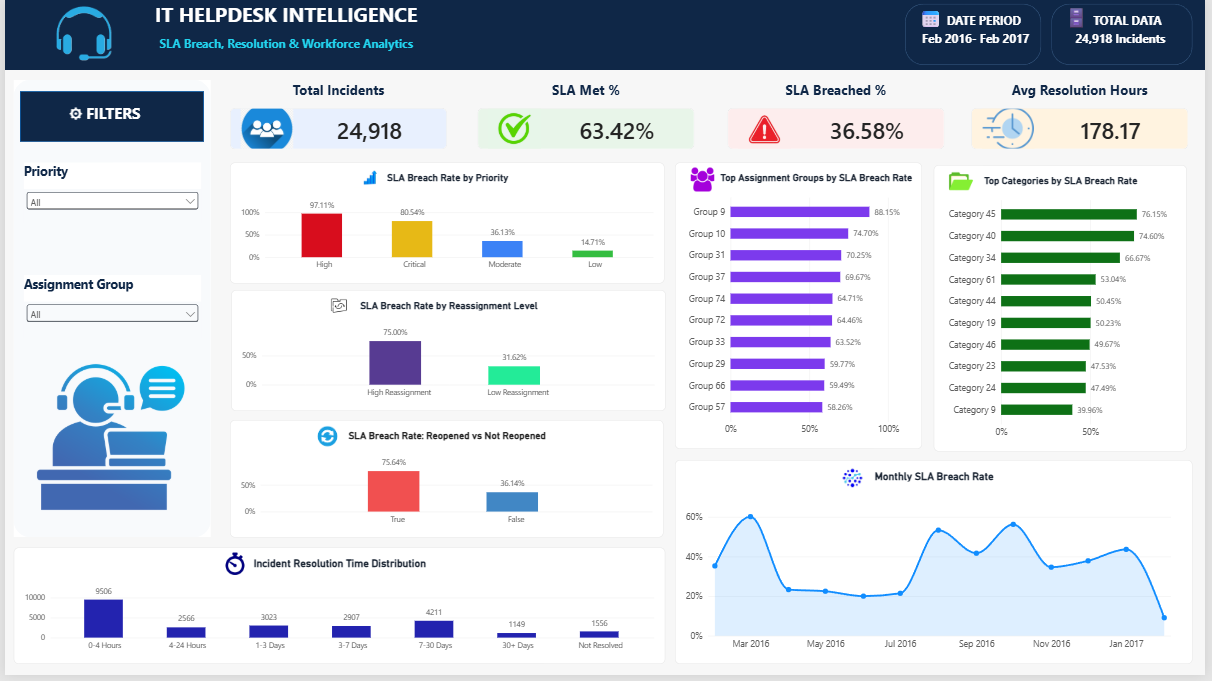

What the dashboard file says about the page in this screenshot:
{"tool":"powerbi","page":{"name":"Page 1","canvas":[1920,1080],"ordinal":0},"visuals":[{"type":"cardVisual","title":"Total Incidents","fields":{"Data":["public incidents.Total Incidents Display"]},"box":[360.2,127.8,347.2,111.1],"z":0},{"type":"cardVisual","title":"SLA Met %","fields":{"Data":["public incidents.SLA Met %"]},"box":[755.6,128.7,347,111],"z":1000},{"type":"cardVisual","title":"SLA Breached %","fields":{"Data":["public incidents.SLA Breached %"]},"box":[1156.5,128.7,347,111],"z":2000},{"type":"cardVisual","title":"Avg Resolution Hours","fields":{"Data":["public incidents.Avg Resolution Hours"]},"box":[1545.4,128.7,347,111],"z":3000},{"type":"clusteredColumnChart","title":"SLA Breach Rate by Priority","fields":{"Category":["public incidents.priority_label"],"Y":["public incidents.SLA Breach Rate"]},"box":[360,260,695,193.3],"z":4000},{"type":"clusteredColumnChart","title":"SLA Breach Rate by Reassignment Level","fields":{"Category":["public incidents.Reassignment Group"],"Y":["public incidents.SLA Breach Rate"]},"box":[361.7,463.3,695,193.3],"z":5000},{"type":"clusteredColumnChart","title":"SLA Breach Rate: Reopened vs Not Reopened","fields":{"Y":["public incidents.SLA Breach Rate"],"Category":["public incidents.was_reopened"]},"box":[360.9,671,693.3,188.3],"z":6000},{"type":"clusteredColumnChart","title":"Incident Resolution Time Distribution","fields":{"Category":["Resolution Buckets.Resolution Bucket"],"Y":["public incidents.Total Incidents"]},"box":[14,876,1042,186],"z":7000},{"type":"lineChart","title":"Monthly SLA Breach Rate","fields":{"Y":["public incidents.SLA Breach Rate"],"Category":["public incidents.Opened Month Date"]},"box":[1072,736,828,326],"z":8000},{"type":"clusteredBarChart","title":"               Top Assignment Groups by SLA Breach Rate","fields":{"Category":["public incidents.assignment_group"],"Y":["public incidents.SLA Breach Rate"]},"box":[1071.7,260,395,458.3],"z":9000},{"type":"shape","box":[14.5,129,314.8,731.5],"z":9500},{"type":"clusteredBarChart","title":"Top Categories by SLA Breach Rate","fields":{"Category":["public incidents.category"],"Y":["public incidents.SLA Breach Rate"]},"box":[1486.7,263.3,405,458.3],"z":10000},{"type":"slicer","title":"Priority","fields":{"Values":["public incidents.priority_label"]},"box":[30.4,259.4,284.1,97.1],"z":11000},{"type":"slicer","title":"Assignment Group","fields":{"Values":["public incidents.assignment_group"]},"box":[30.4,440.6,284.3,104.6],"z":12000},{"type":"textbox","box":[0,0,1920,112],"z":16001},{"type":"image","box":[26,0,202,102],"z":16002},{"type":"shape","box":[1440,6,218,98],"z":16003},{"type":"shape","box":[1674,6,226,98],"z":16004},{"type":"textbox","box":[1454,6,190,92],"z":16005},{"type":"textbox","box":[1692,6,200,92],"z":16006},{"type":"shape","box":[24.6,146.4,294.2,81.2],"z":16007},{"type":"textbox","box":[17.4,163.8,284.1,53.6],"z":16008},{"type":"image","box":[557.3,263.6,52.7,36.4],"z":16009},{"type":"image","box":[507.3,470.9,52,36],"z":16010},{"type":"image","box":[490.9,680.9,52,36],"z":16011},{"type":"image","box":[342.7,883.6,52,36],"z":16012},{"type":"image","box":[1090,268.3,51.7,38],"z":16013},{"type":"image","box":[1503.3,268.3,51,38],"z":16014},{"type":"image","box":[1330,748.3,52,36],"z":16015},{"type":"image","box":[24,576,290,246],"z":16016}]}

Visuals, with their boxes in screenshot pixels (x1, y1, x2, y2), scaled from the page's 1920x1080 canvas onto the 1212x681 screenshot:
"Total Incidents" cardVisual: 227 81 447 151
"SLA Met %" cardVisual: 477 81 696 151
"SLA Breached %" cardVisual: 730 81 949 151
"Avg Resolution Hours" cardVisual: 976 81 1195 151
"SLA Breach Rate by Priority" clusteredColumnChart: 227 164 666 286
"SLA Breach Rate by Reassignment Level" clusteredColumnChart: 228 292 667 414
"SLA Breach Rate: Reopened vs Not Reopened" clusteredColumnChart: 228 423 665 542
"Incident Resolution Time Distribution" clusteredColumnChart: 9 552 667 670
"Monthly SLA Breach Rate" lineChart: 677 464 1199 670
"               Top Assignment Groups by SLA Breach Rate" clusteredBarChart: 677 164 926 453
shape: 9 81 208 543
"Top Categories by SLA Breach Rate" clusteredBarChart: 938 166 1194 455
"Priority" slicer: 19 164 199 225
"Assignment Group" slicer: 19 278 199 344
textbox: 0 0 1211 71
image: 16 0 144 64
shape: 909 4 1047 66
shape: 1057 4 1199 66
textbox: 918 4 1038 62
textbox: 1068 4 1194 62
shape: 16 92 201 144
textbox: 11 103 190 137
image: 352 166 385 189
image: 320 297 353 320
image: 310 429 343 452
image: 216 557 249 580
image: 688 169 721 193
image: 949 169 981 193
image: 840 472 872 495
image: 15 363 198 518
